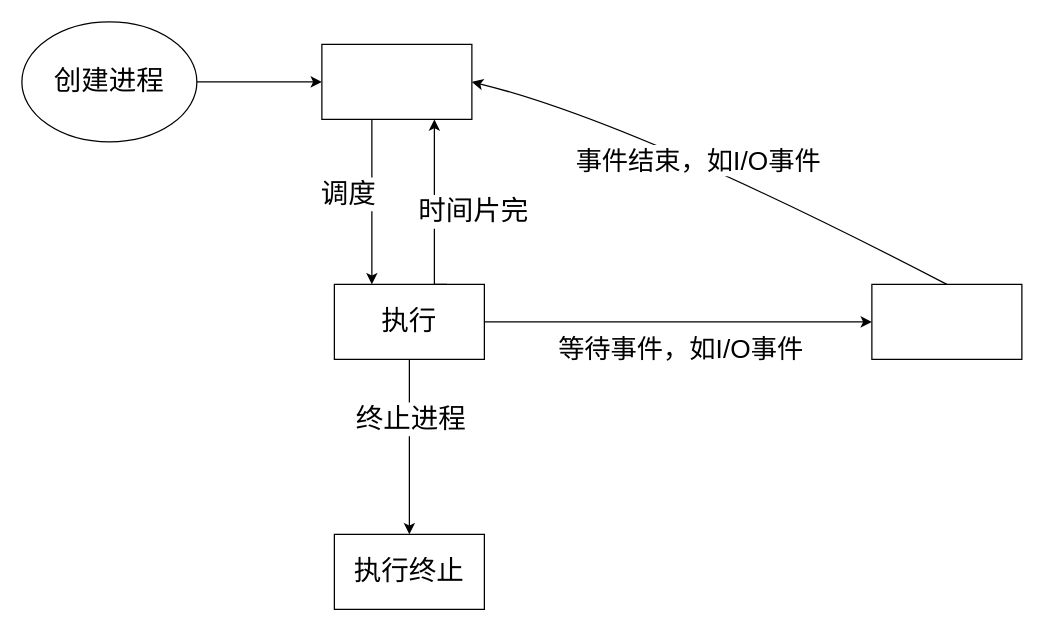
Some shapes in this 1044 by 631 pixel diagram are drawn without their labels. The centre of each missing label's shape, as x and y in pixels:
就绪状态: the point at 396,81
阻塞: the point at 946,321
